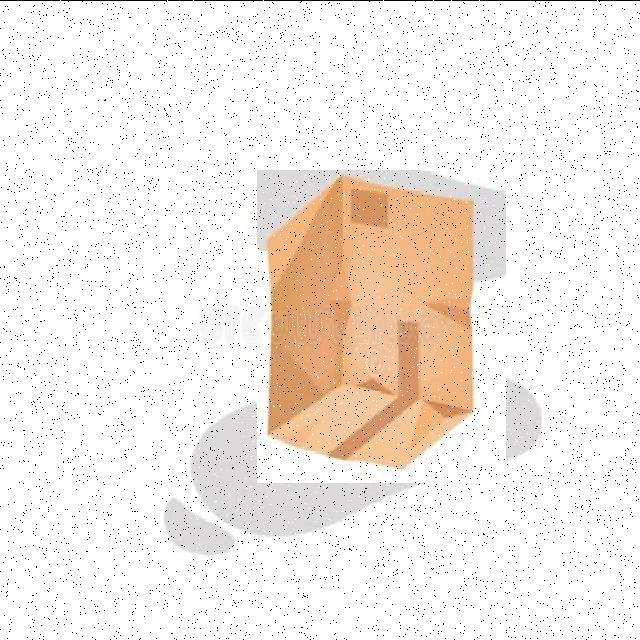defect: (257, 169, 506, 482)
